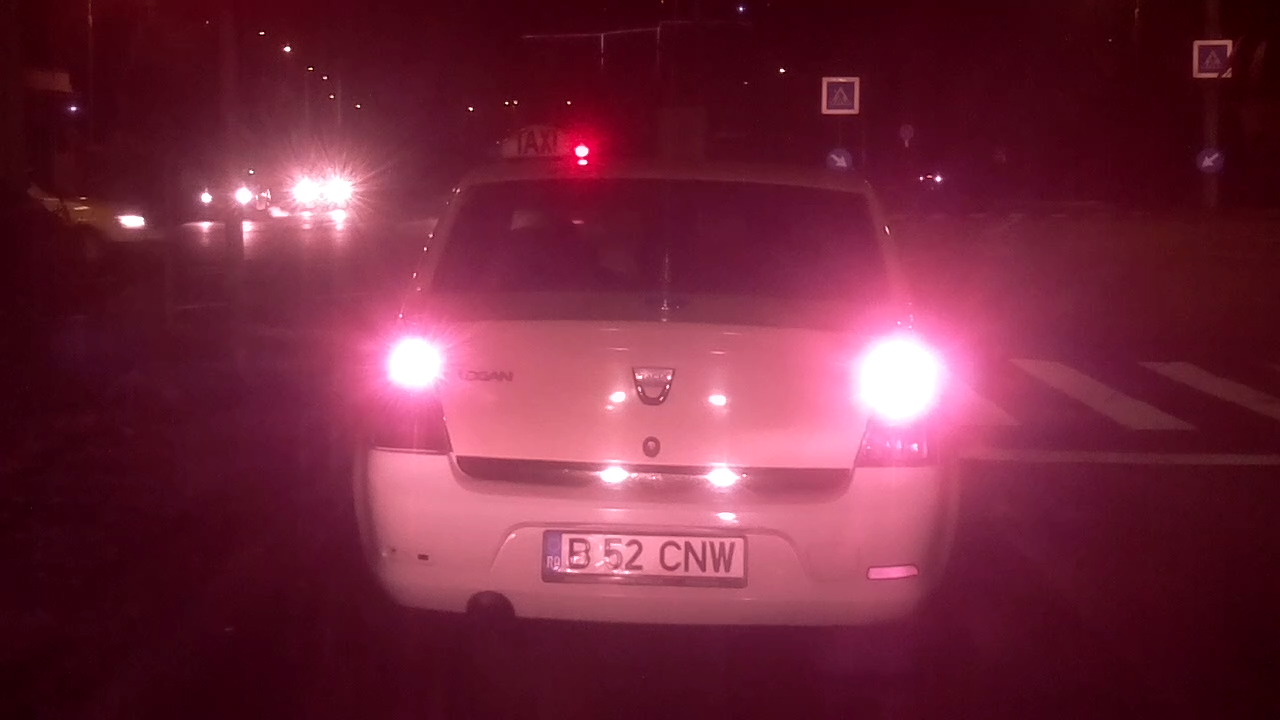license-plate: (535, 520, 754, 592)
